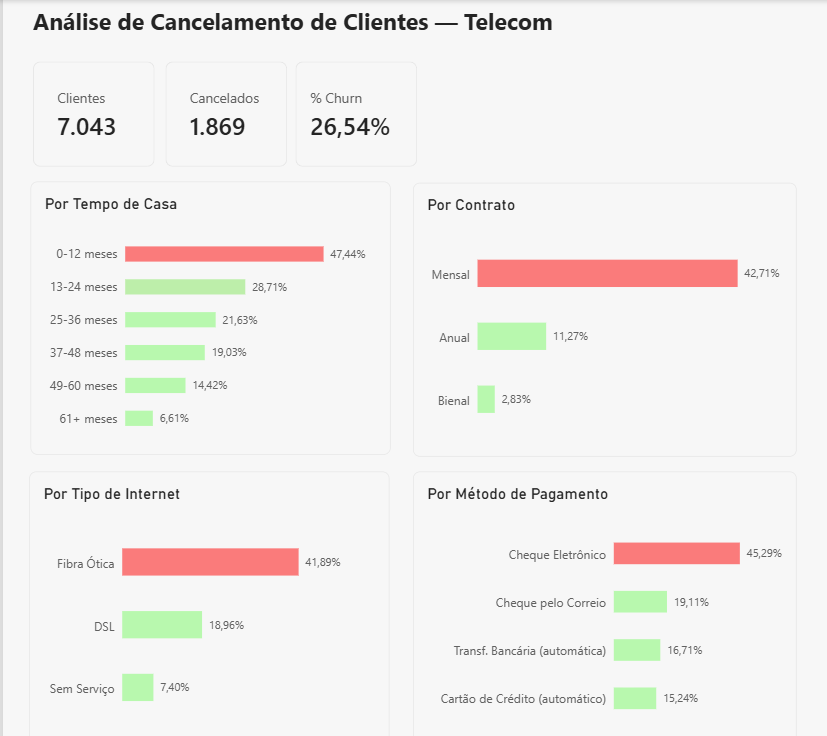

The dashboard page shown, as its layout file describes it:
{"tool":"powerbi","page":{"name":"Página 1","canvas":[960,1300],"ordinal":0},"visuals":[{"type":"cardVisual","fields":{"Data":["WA_Fn-UseC_-Telco-Customer-Churn.Medida"]},"box":[188,84,141,122.2],"z":0},{"type":"cardVisual","fields":{"Data":["WA_Fn-UseC_-Telco-Customer-Churn.Taxa churn"]},"box":[338.9,84,141,122],"z":1},{"type":"cardVisual","fields":{"Data":["WA_Fn-UseC_-Telco-Customer-Churn.Total clientes"]},"box":[35.2,84.3,141.7,122.2],"z":2},{"type":"clusteredBarChart","title":"Por Contrato","fields":{"Category":["WA_Fn-UseC_-Telco-Customer-Churn.Contract"],"Y":["WA_Fn-UseC_-Telco-Customer-Churn.Taxa churn"]},"box":[474.9,224.5,445.1,317.6],"z":3},{"type":"clusteredBarChart","title":"Por Tipo de Internet","fields":{"Category":["WA_Fn-UseC_-Telco-Customer-Churn.InternetService"],"Y":["WA_Fn-UseC_-Telco-Customer-Churn.Taxa churn"]},"box":[30.5,559.5,417.9,316.8],"z":4},{"type":"clusteredBarChart","title":"Por Método de Pagamento","fields":{"Category":["WA_Fn-UseC_-Telco-Customer-Churn.PaymentMethod"],"Y":["WA_Fn-UseC_-Telco-Customer-Churn.Taxa churn"]},"box":[474.9,559.8,445.1,317.6],"z":5},{"type":"clusteredBarChart","title":"Por Tempo de Casa","fields":{"Category":["Telco.Faixa Tenure"],"Y":["WA_Fn-UseC_-Telco-Customer-Churn.Taxa churn"]},"box":[31.9,223.5,417.9,316.8],"z":6},{"type":"textbox","box":[29.8,910.8,890.2,376.5],"z":7},{"type":"textbox","box":[35.2,19.4,633.3,52.8],"z":8}]}

Visuals, with their boxes on the page's 960x1300 design canvas (x1, y1, x2, y2). These are canvas units, not pixel positions in the 827x736 screenshot, which may show the page scaled, cropped or inside an application window:
cardVisual - WA_Fn-UseC_-Telco-Customer-Churn.Medida: {"left": 188, "top": 84, "right": 329, "bottom": 206}
cardVisual - WA_Fn-UseC_-Telco-Customer-Churn.Taxa churn: {"left": 339, "top": 84, "right": 480, "bottom": 206}
cardVisual - WA_Fn-UseC_-Telco-Customer-Churn.Total clientes: {"left": 35, "top": 84, "right": 177, "bottom": 206}
"Por Contrato" clusteredBarChart: {"left": 475, "top": 224, "right": 920, "bottom": 542}
"Por Tipo de Internet" clusteredBarChart: {"left": 30, "top": 560, "right": 448, "bottom": 876}
"Por Método de Pagamento" clusteredBarChart: {"left": 475, "top": 560, "right": 920, "bottom": 877}
"Por Tempo de Casa" clusteredBarChart: {"left": 32, "top": 224, "right": 450, "bottom": 540}
textbox: {"left": 30, "top": 911, "right": 920, "bottom": 1287}
textbox: {"left": 35, "top": 19, "right": 668, "bottom": 72}
